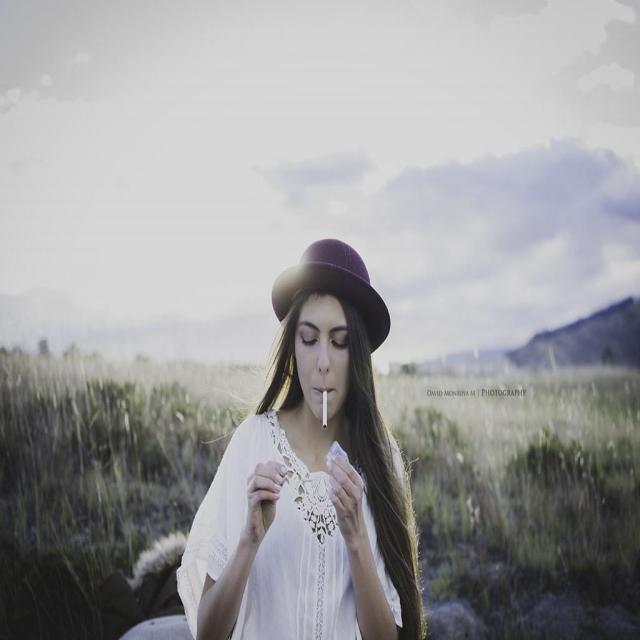Сигарета: (322, 387, 329, 429)
Тело: (197, 238, 422, 640)
